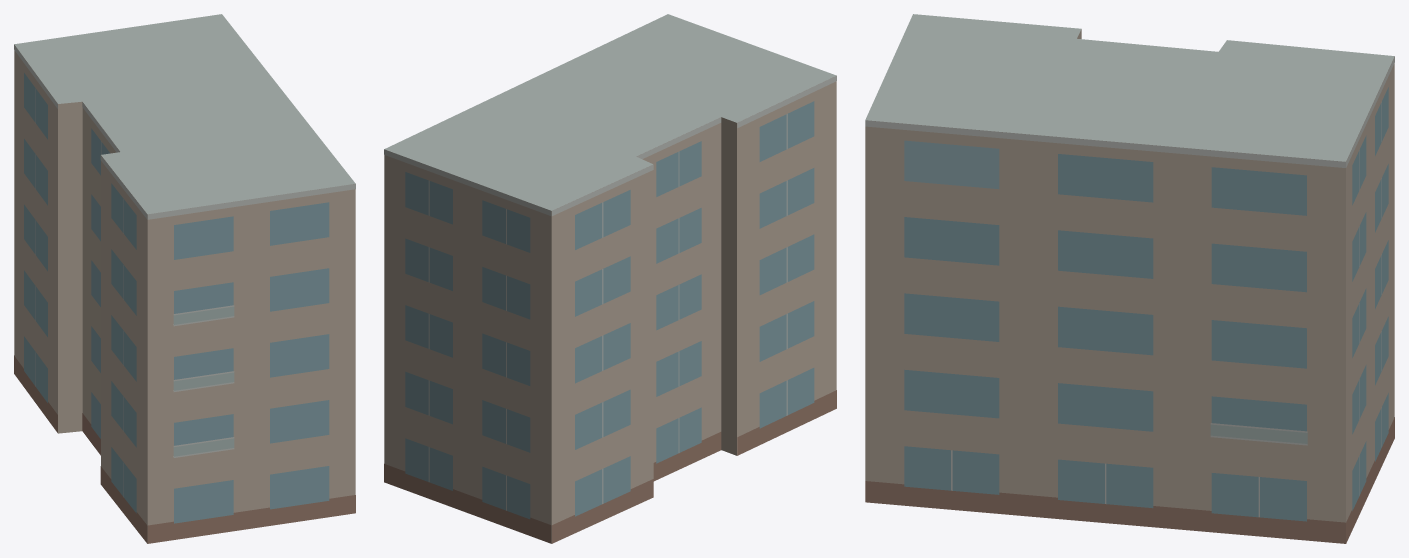
File: survey-upis-32795368.glb
The picture shows the model from 3 angles, left to right: view 1: azimuth 30°, elevation 25°; view 2: azimuth 150°, elevation 25°; view 3: azimuth 270°, elevation 25°; orthographic projection. The views are drawn at different scales.
Parts seen in each view (by area): view 1: survey-upis-32795368.tmp; view 2: survey-upis-32795368.tmp; view 3: survey-upis-32795368.tmp.
Boxes of the visible parts, left/top/right/bottom form: survey-upis-32795368.tmp: left=14, top=14, right=355, bottom=543; survey-upis-32795368.tmp: left=384, top=14, right=836, bottom=543; survey-upis-32795368.tmp: left=865, top=14, right=1394, bottom=543.
Bounding box in the file's own units: 12.21 × 14.7 × 18.48.
